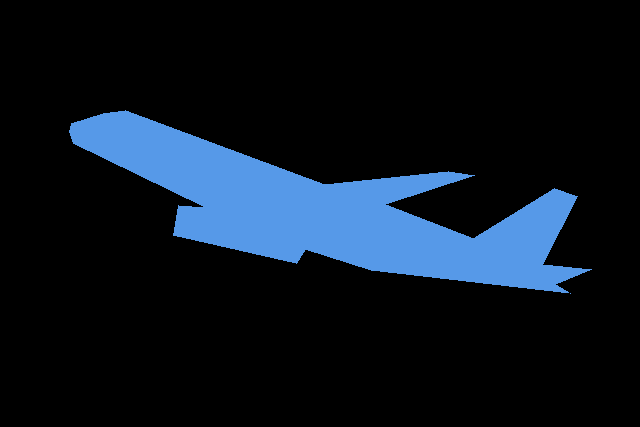Airplane: (69, 110, 591, 294)
